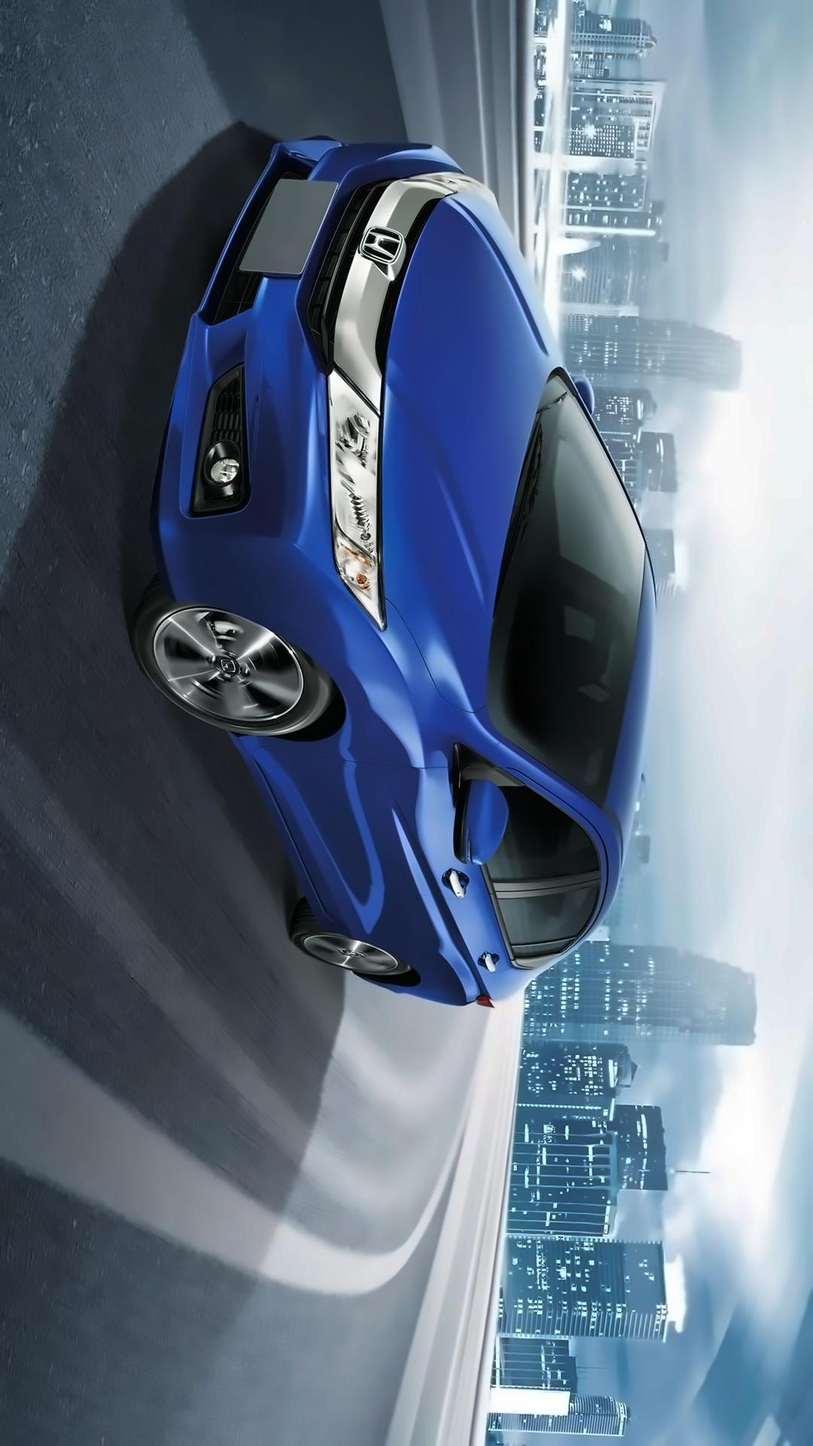Car hood: (367, 166, 549, 756)
Fender - -F-L-: (217, 601, 553, 783)
Front bumper: (159, 117, 446, 631)
Headlight - -L-: (316, 354, 386, 633)
Passenger-s door - -F-L-: (226, 738, 634, 894)
Passenger-s door - -R-L-: (279, 869, 643, 981)
Side bumper - -L-: (219, 716, 342, 932)
Side mirror - -L-: (439, 751, 520, 876)
